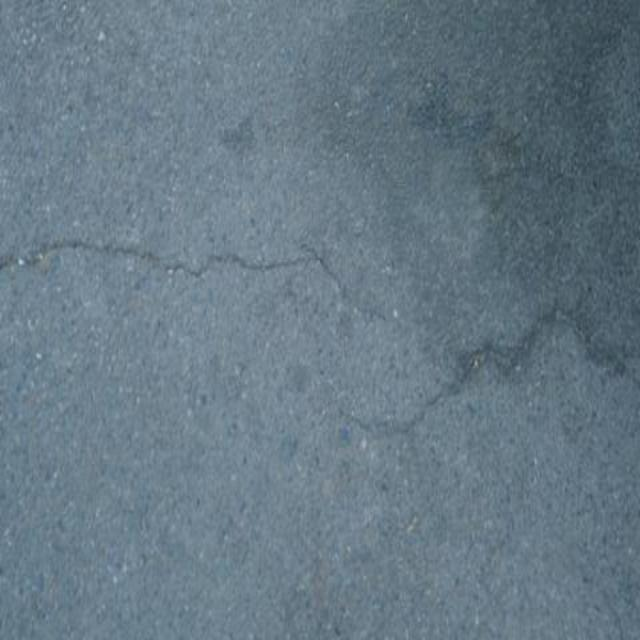cracks: (13, 220, 640, 410)
